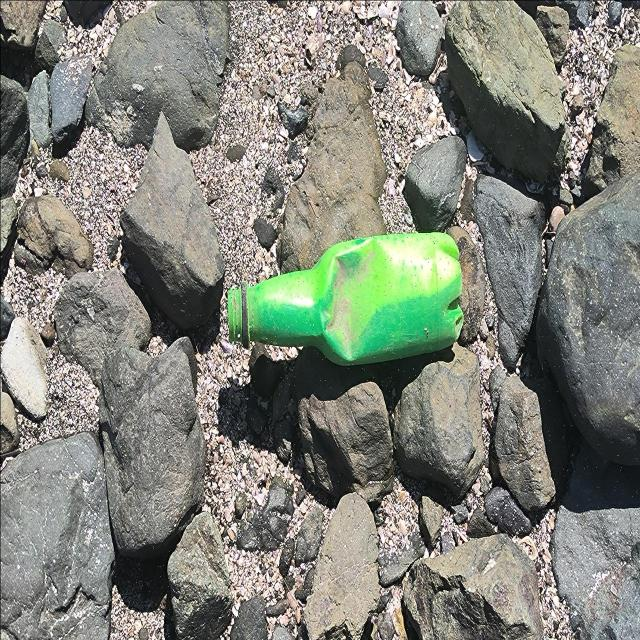plastic_waste: (227, 230, 465, 370)
